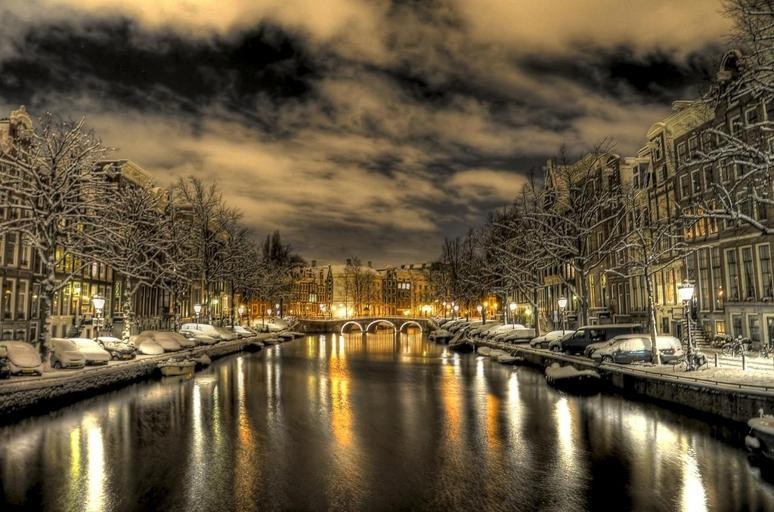non-vehicle: (672, 349, 708, 373), (721, 334, 745, 357), (759, 338, 773, 359)
